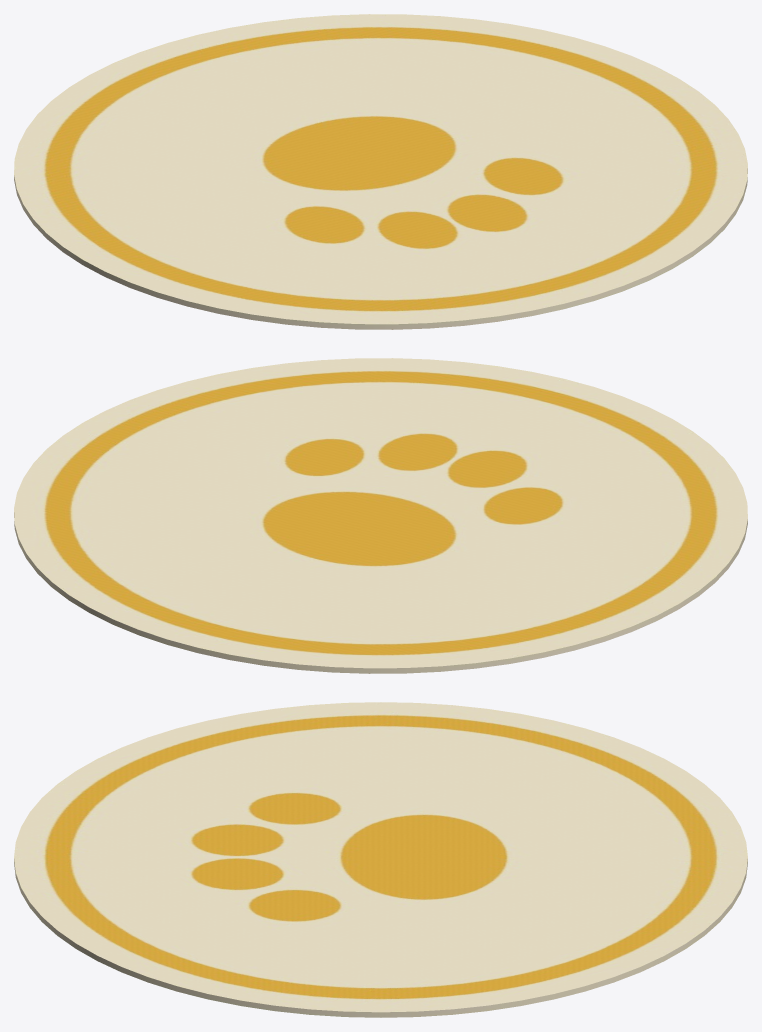
Rendered from rug_round.glb.
3 renders of one model, top to bottom at view 1: azimuth 30°, elevation 25°; view 2: azimuth 150°, elevation 25°; view 3: azimuth 270°, elevation 25°, orthographic.
Parts seen in each view (by area): view 1: rug_round; view 2: rug_round; view 3: rug_round.
Part boxes in pixels (x1,y1,x2,y2): rug_round: (14, 14, 747, 329); rug_round: (14, 358, 747, 673); rug_round: (14, 702, 747, 1017).
Size of the model in its own units: 1.7 by 0.014 by 1.7.
Materials: 1 (1 with a texture image).
